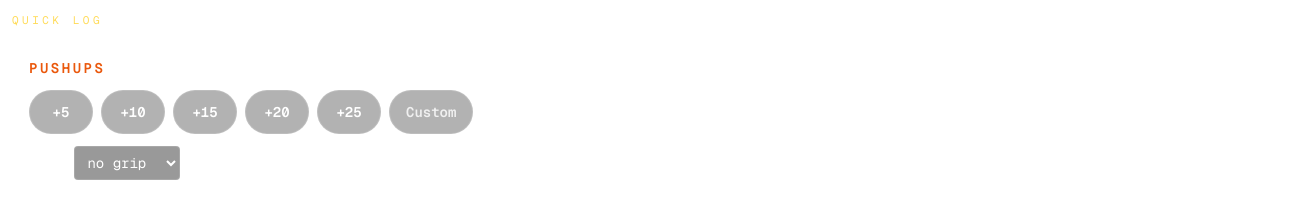
Test: QuickLog › locks the pending row while a log is in flight
This screenshot has width=1304, height=213.
Click the button with test id "quick-log-pushups-10".
click(133, 112)  # box [101,90,165,134]
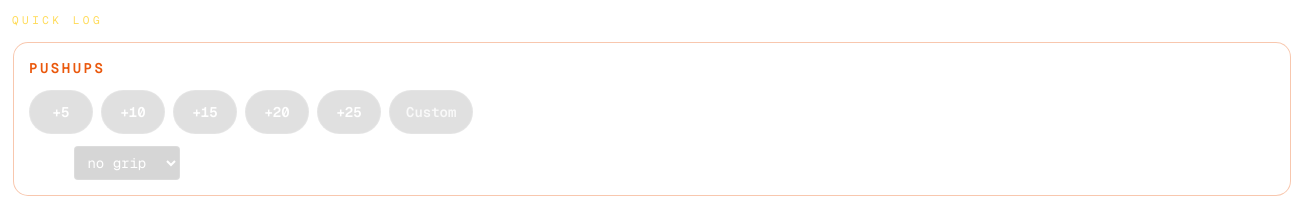
Expected: the button with test id "quick-log-pushups-5" is disabled, [29,90,93,134]
Expected: the button with test id "quick-log-pushups-10" is disabled, [101,90,165,134]
